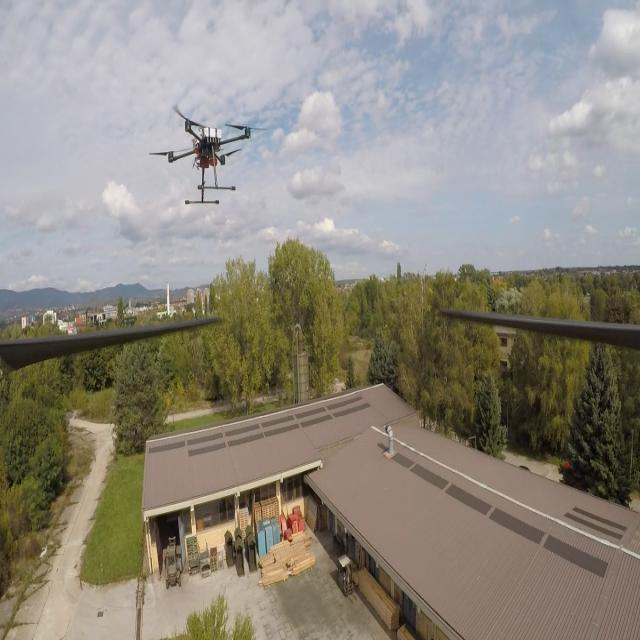UAV: (148, 102, 272, 208)
